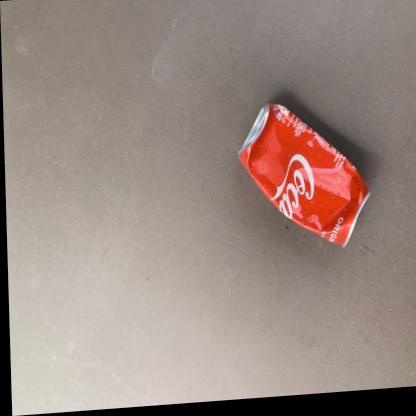trash: (239, 104, 368, 246)
